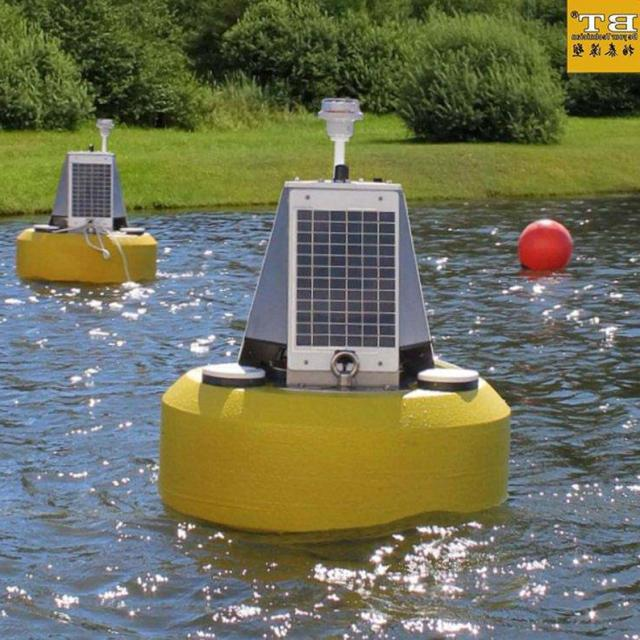buoy: (163, 94, 514, 536), (12, 111, 158, 289)
